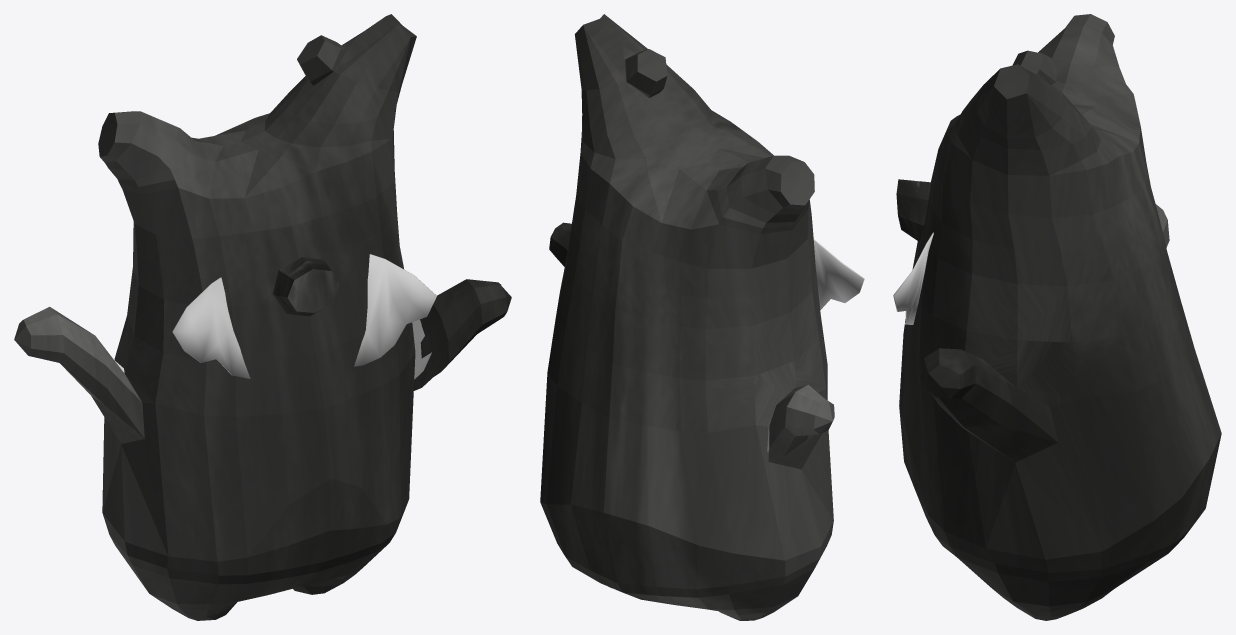
The model's file is frame_0104.obj.
The picture shows the model from 3 angles, left to right: view 1: azimuth 30°, elevation 25°; view 2: azimuth 150°, elevation 25°; view 3: azimuth 270°, elevation 25°; orthographic projection. The views are drawn at different scales.
Parts seen in each view (by area): view 1: korok, leaf, nose; view 2: korok, leaf; view 3: korok, nose, leaf.
Part boxes in pixels (x1,y1,x2,y2): korok: [14, 14, 511, 620]; leaf: [172, 254, 436, 378]; nose: [273, 257, 339, 316]; korok: [540, 14, 834, 620]; leaf: [813, 239, 864, 309]; korok: [899, 14, 1221, 620]; nose: [896, 179, 930, 241]; leaf: [893, 232, 933, 324].
Size of the model in its own units: 1.68 by 2.32 by 1.19.
